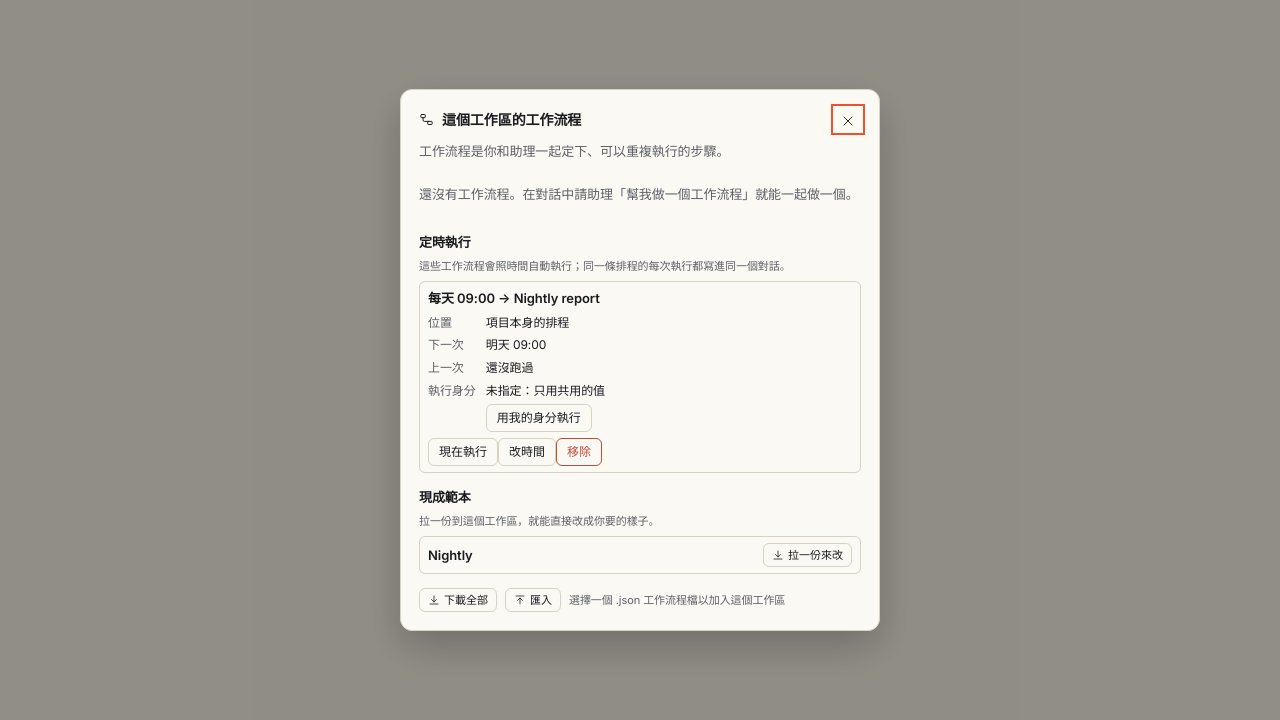
Test: WorkflowsModal — schedules › a row changed meanwhile is not rewritten — the server's sentence is shown
Step 1. Click the button "移除" → (579, 452), box [556,438,602,466]
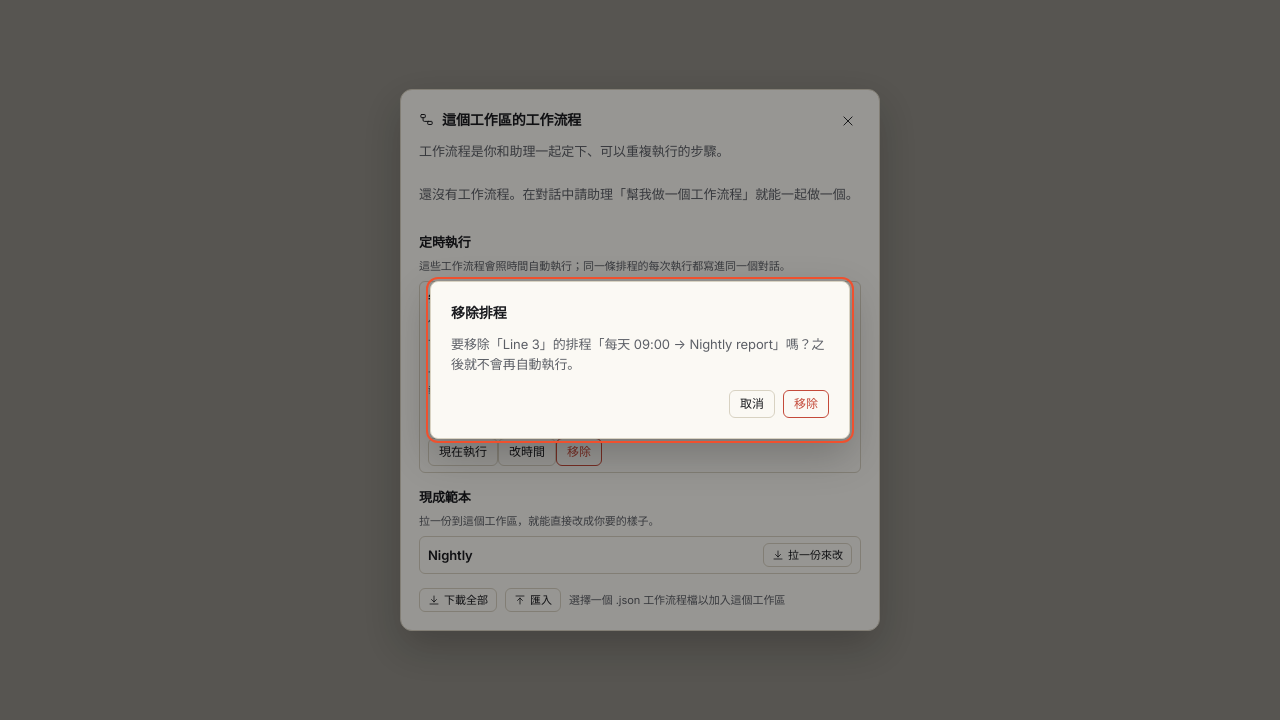
Step 2. Click the button "移除" → (806, 404), box [783,390,829,418]
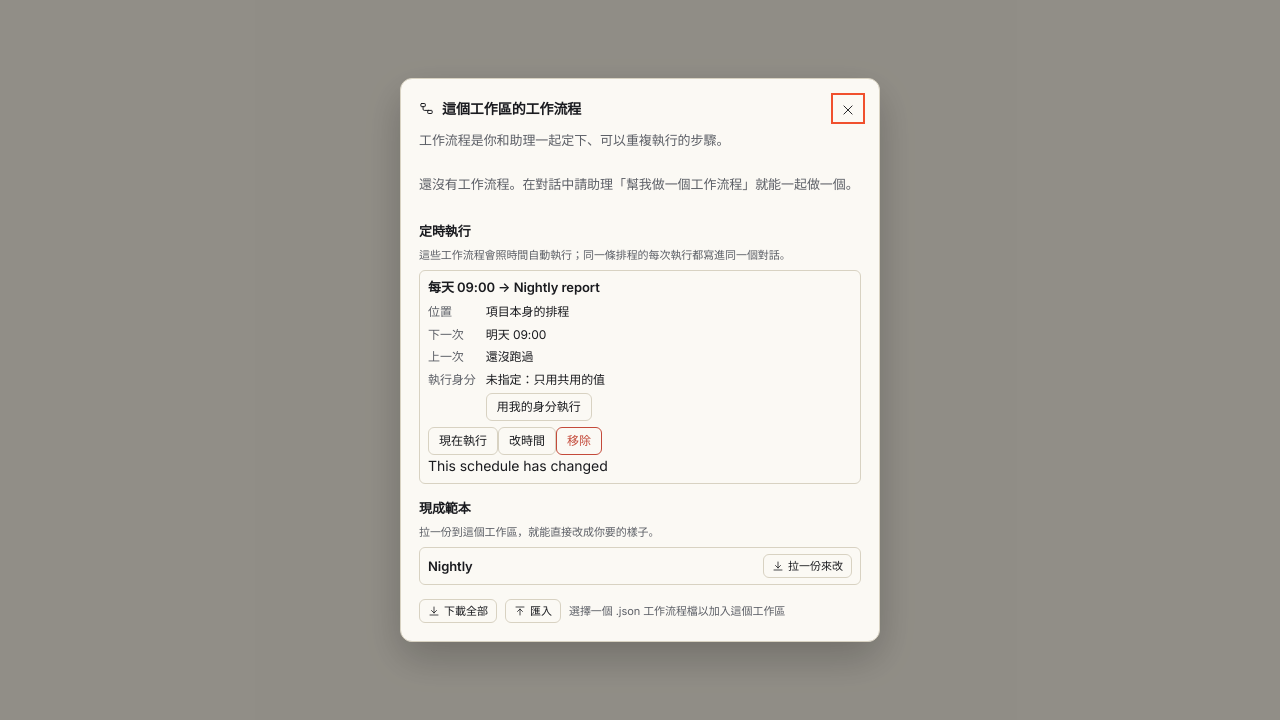
Expected: the message reads "This schedule has changed", [428,457,608,474]
